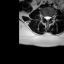CCS_normal: (46, 13, 48, 24)
LFS_normal: (51, 13, 53, 20)
LLS_normal: (48, 13, 51, 21)
RFS_normal: (41, 13, 44, 20)
RLS_normal: (44, 14, 46, 21)
